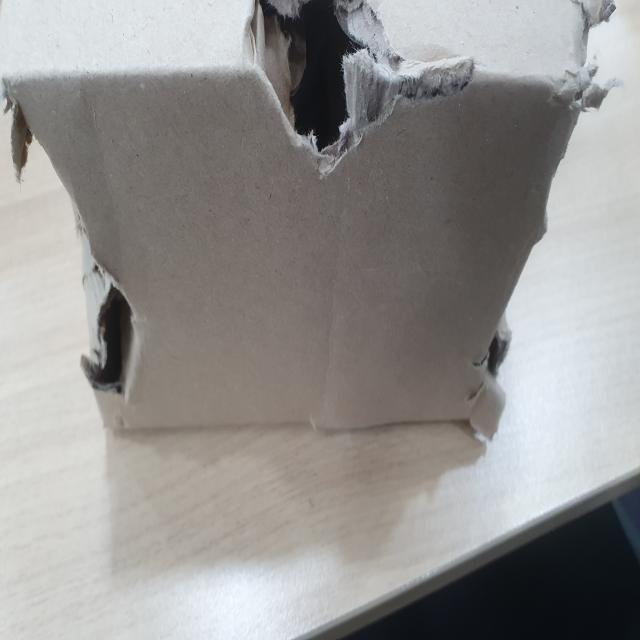hole: (227, 1, 472, 175), (82, 247, 141, 424)
